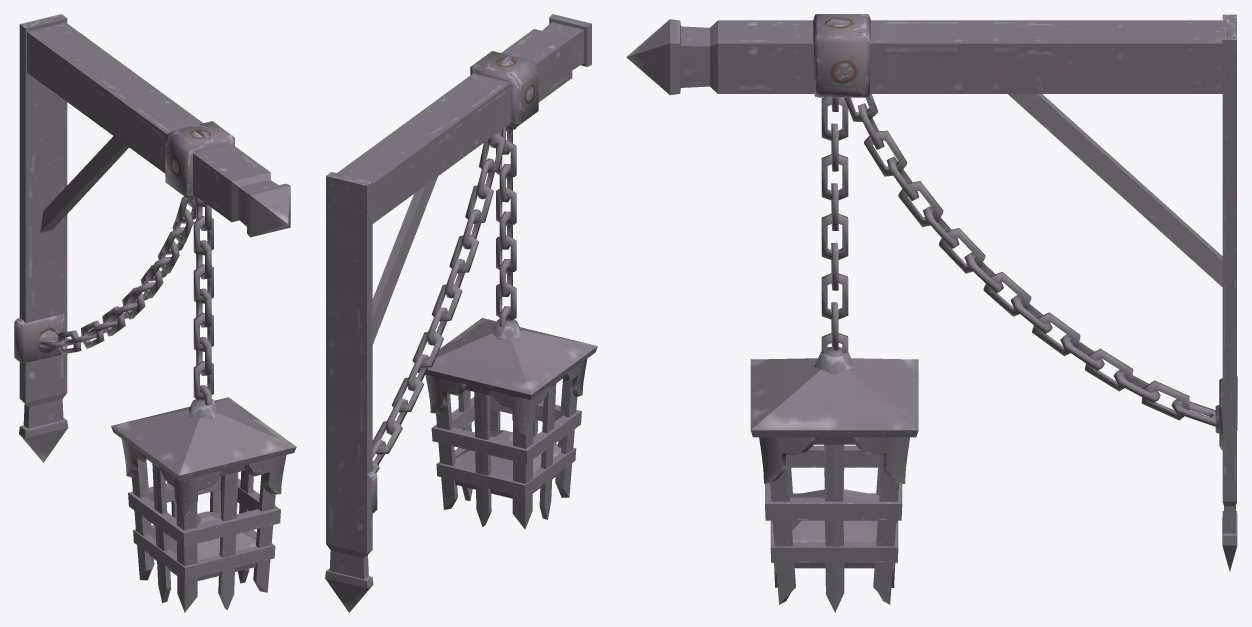
Rendered from lantern_wall.glb.
3 views of the same model, side by side, from view 1: azimuth 30°, elevation 25°; view 2: azimuth 150°, elevation 25°; view 3: azimuth 270°, elevation 25° (orthographic). The views are drawn at different scales.
Visible parts, largest first — view 1: Lantern_Wall; view 2: Lantern_Wall; view 3: Lantern_Wall.
Boxes of the visible parts, bbox=[...] form: Lantern_Wall: bbox=[14, 14, 296, 612]; Lantern_Wall: bbox=[325, 14, 597, 612]; Lantern_Wall: bbox=[626, 14, 1237, 612].
Size of the model in its own units: 0.3573 by 1.34 by 1.3.
1 material, 1 textured.
